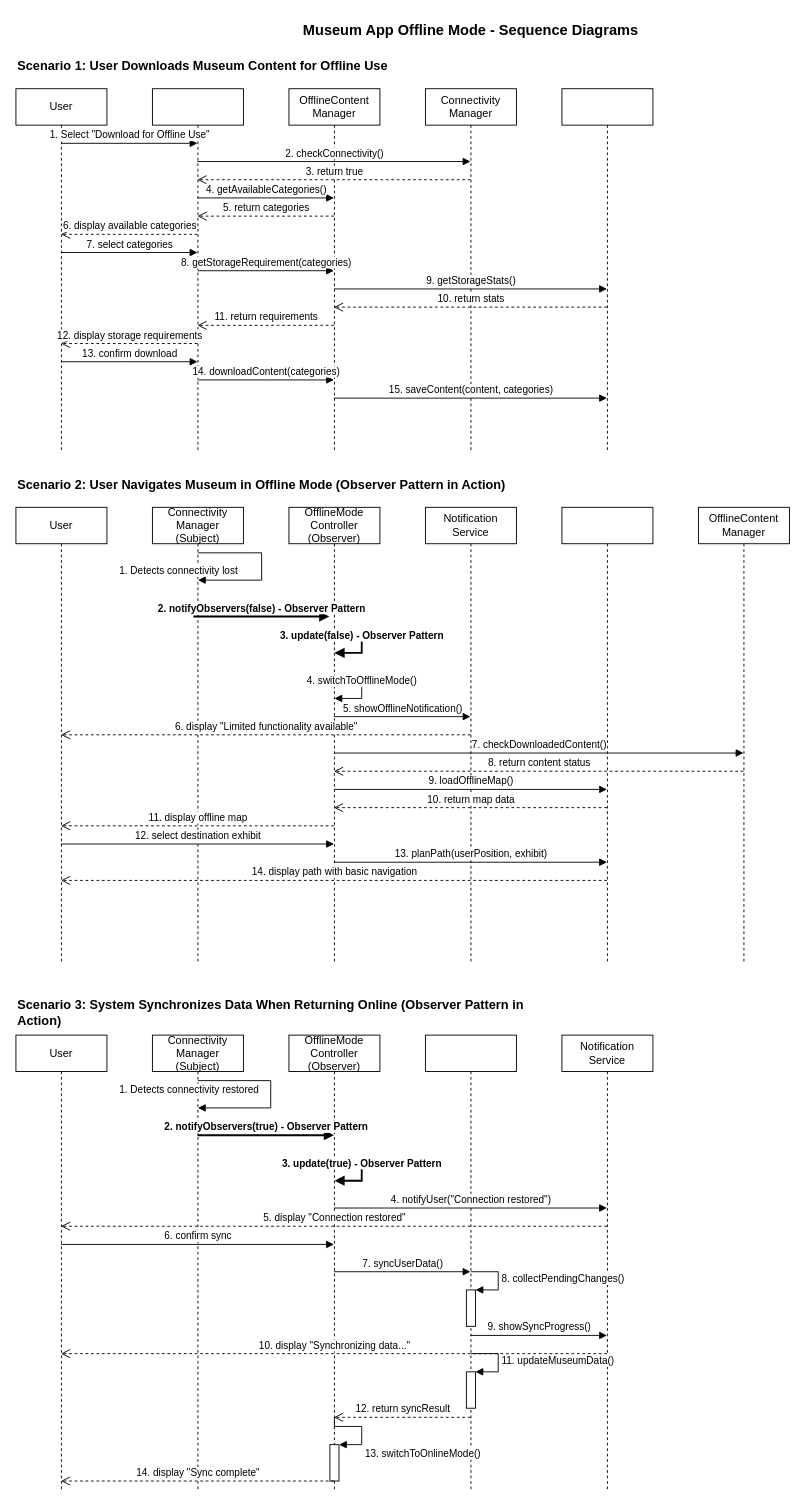
This 805x1506 diagram has some shape labels left out. Each missing label, with the box of its shape:
Content Synchronizer: (425, 1034, 516, 1490)
LocalStorage Service: (561, 88, 653, 453)
OfflineMap Handler: (561, 506, 653, 962)
OfflineMode Controller: (152, 88, 243, 453)
